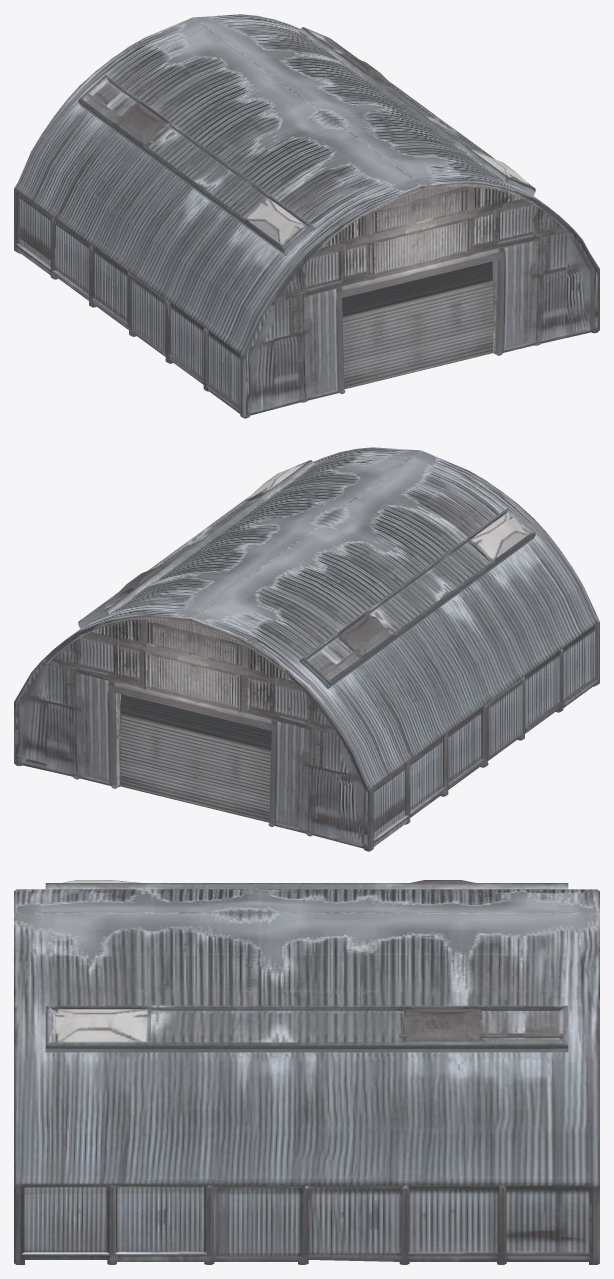
File: hangar2.glb
3 views of the same model, one above another, from view 1: azimuth 30°, elevation 25°; view 2: azimuth 150°, elevation 25°; view 3: azimuth 270°, elevation 25° (orthographic). The views are drawn at different scales.
Visible parts, largest first — view 1: body; view 2: body; view 3: body.
Boxes of the visible parts, x1=… form: body: x1=14, y1=14, x2=599, y2=418; body: x1=14, y1=447, x2=599, y2=851; body: x1=14, y1=880, x2=599, y2=1264.
Size of the model in its own units: 1.69 by 0.865 by 1.89.
1 material, 1 textured.
